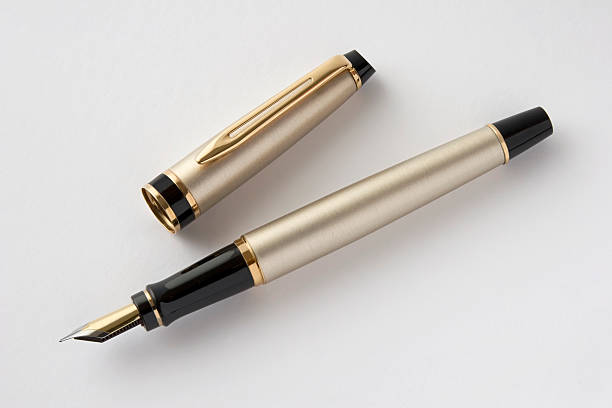pen: (55, 38, 569, 357)
